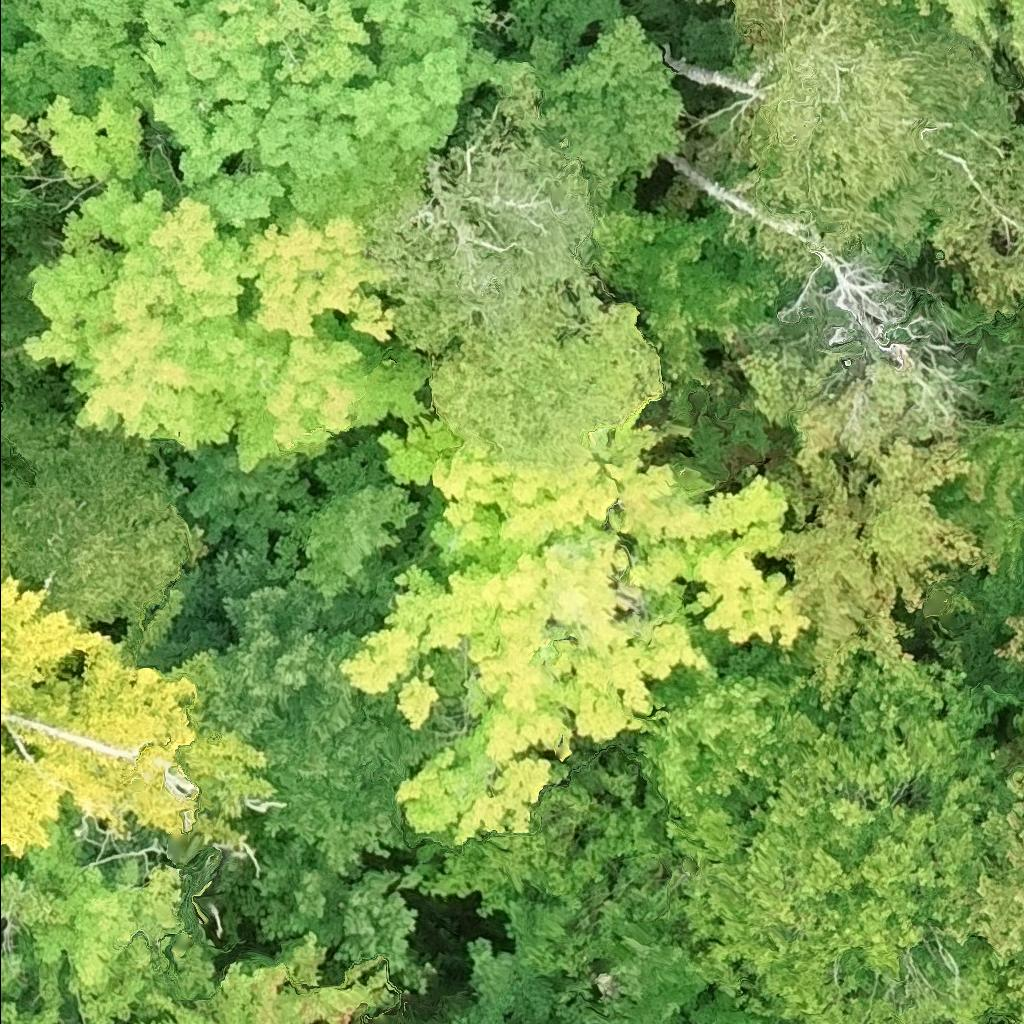crown: (336, 410, 813, 842), (666, 657, 1023, 1023), (0, 0, 533, 230), (144, 539, 452, 881), (731, 345, 996, 713), (727, 0, 1023, 310), (0, 570, 284, 864), (22, 176, 257, 452), (357, 70, 598, 330), (0, 798, 221, 1023), (0, 402, 213, 627), (228, 831, 445, 997), (500, 12, 688, 203), (218, 309, 433, 475), (271, 432, 443, 632), (629, 640, 812, 823), (129, 933, 389, 1023), (228, 208, 397, 344), (638, 243, 784, 392), (579, 175, 730, 307), (172, 444, 315, 561), (892, 0, 1023, 72), (437, 935, 521, 1023), (506, 0, 627, 60), (0, 153, 43, 229), (728, 0, 779, 32), (0, 82, 17, 136), (871, 0, 889, 6)
